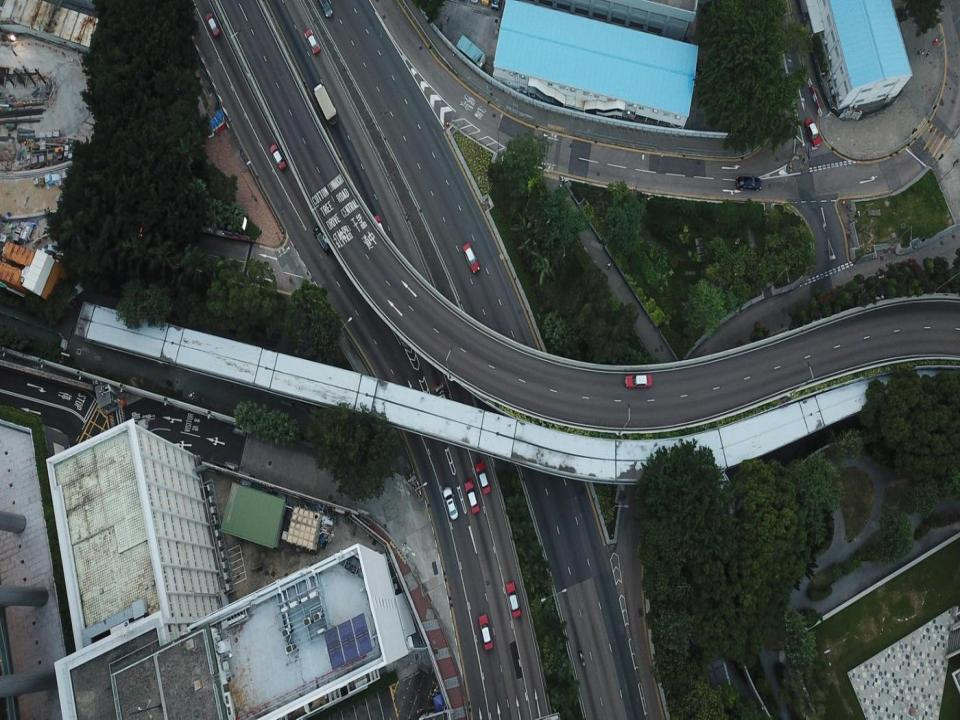car: (504, 578, 523, 620), (473, 459, 490, 496), (443, 484, 459, 522), (478, 615, 494, 652), (464, 240, 480, 276), (805, 115, 822, 147), (270, 142, 288, 172), (205, 7, 222, 38), (370, 216, 388, 245), (465, 480, 479, 515), (303, 26, 320, 54), (623, 373, 653, 387), (734, 176, 762, 191), (435, 383, 448, 412), (320, 0, 333, 19), (481, 0, 491, 11), (491, 0, 499, 11), (470, 0, 480, 5)
truck: (313, 80, 339, 125)
van: (312, 226, 330, 254)
